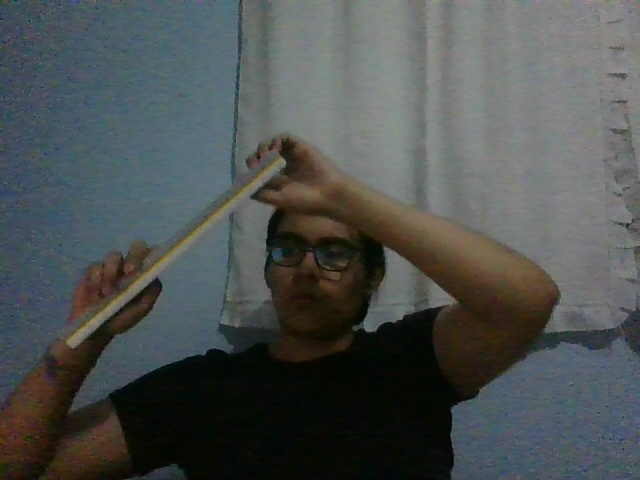regla: (54, 151, 286, 350)
